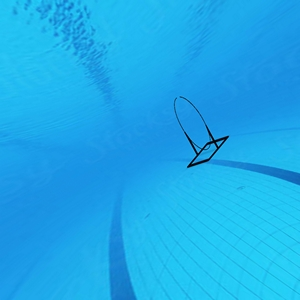circle: (172, 95, 231, 169)
